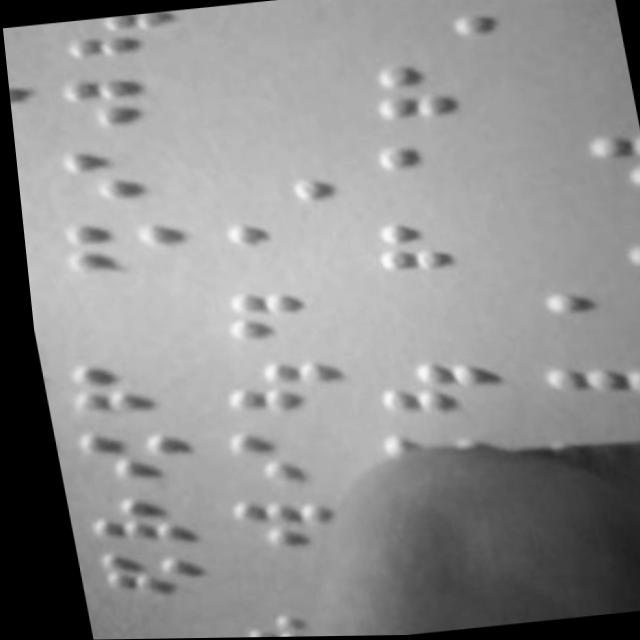braiile: (366, 48, 507, 131), (209, 349, 356, 428), (366, 351, 504, 434), (362, 204, 503, 284), (211, 419, 353, 496), (534, 355, 640, 453), (523, 280, 640, 368), (54, 212, 190, 287), (213, 278, 353, 350), (52, 143, 193, 214), (366, 131, 499, 205), (65, 488, 201, 560), (63, 420, 196, 493), (52, 356, 188, 427), (212, 489, 341, 562), (56, 69, 189, 139), (210, 210, 337, 281), (56, 9, 190, 67), (83, 544, 204, 607)
